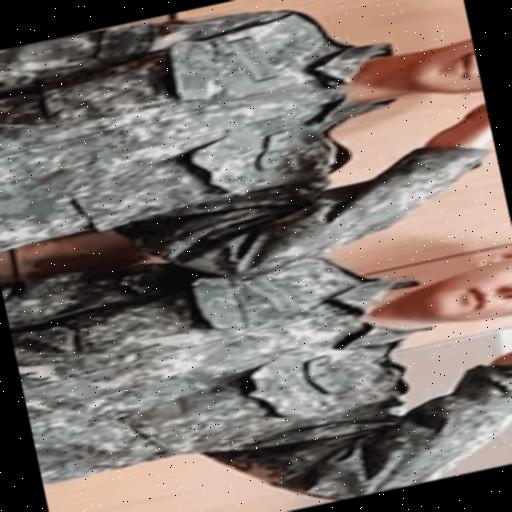korea army: (4, 182, 512, 512), (0, 0, 508, 316)
